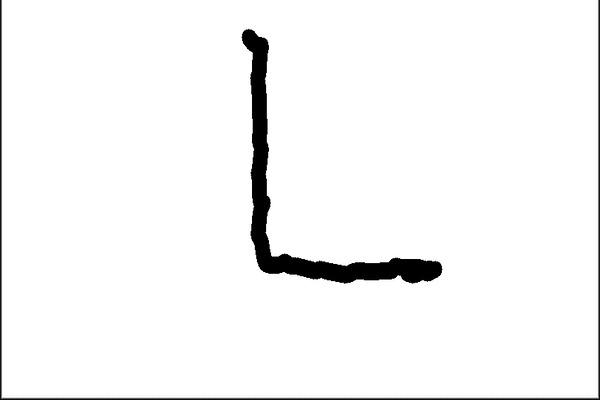L: (232, 18, 445, 290)
